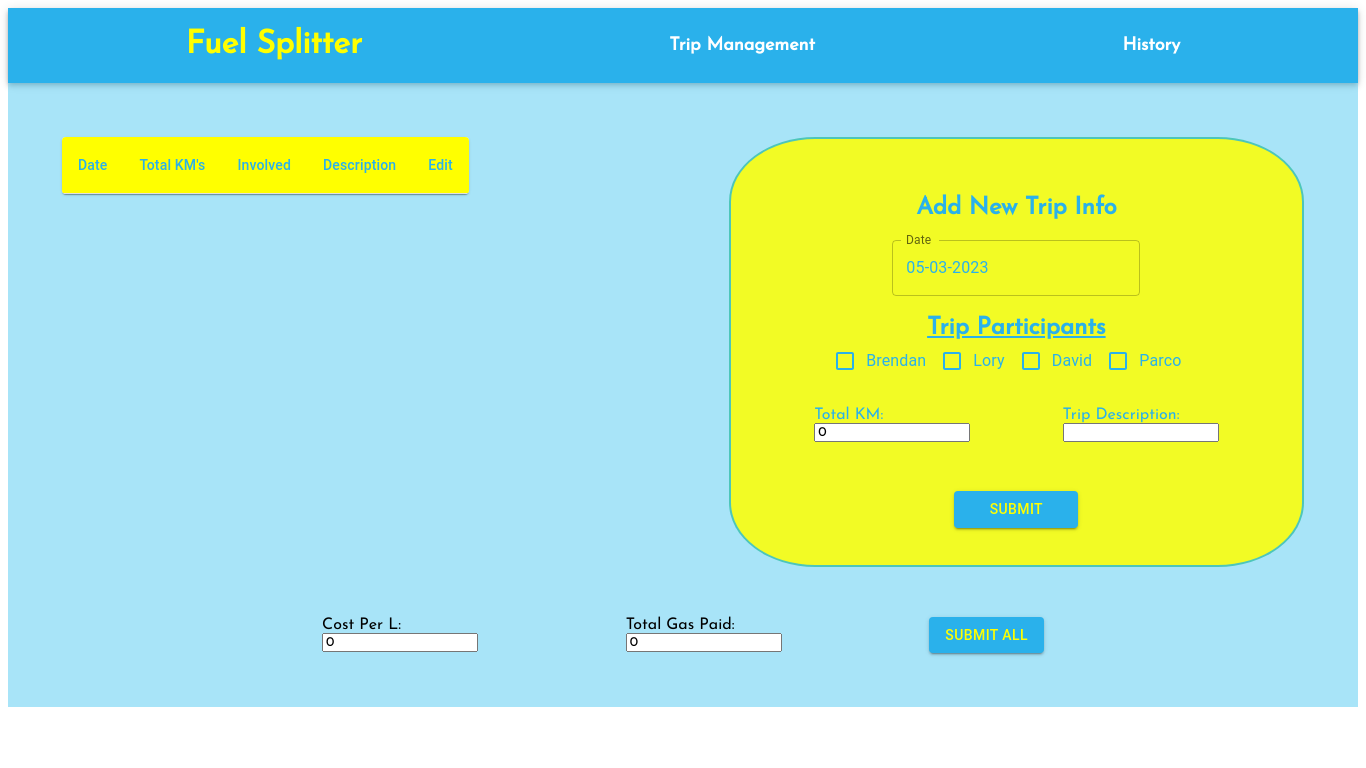
Test: Final Gas Totals › Should only show appropriate errors after being partially fixed
Click the button with test id "submit_all": {"x": 987, "y": 636} [929,617,1044,654]
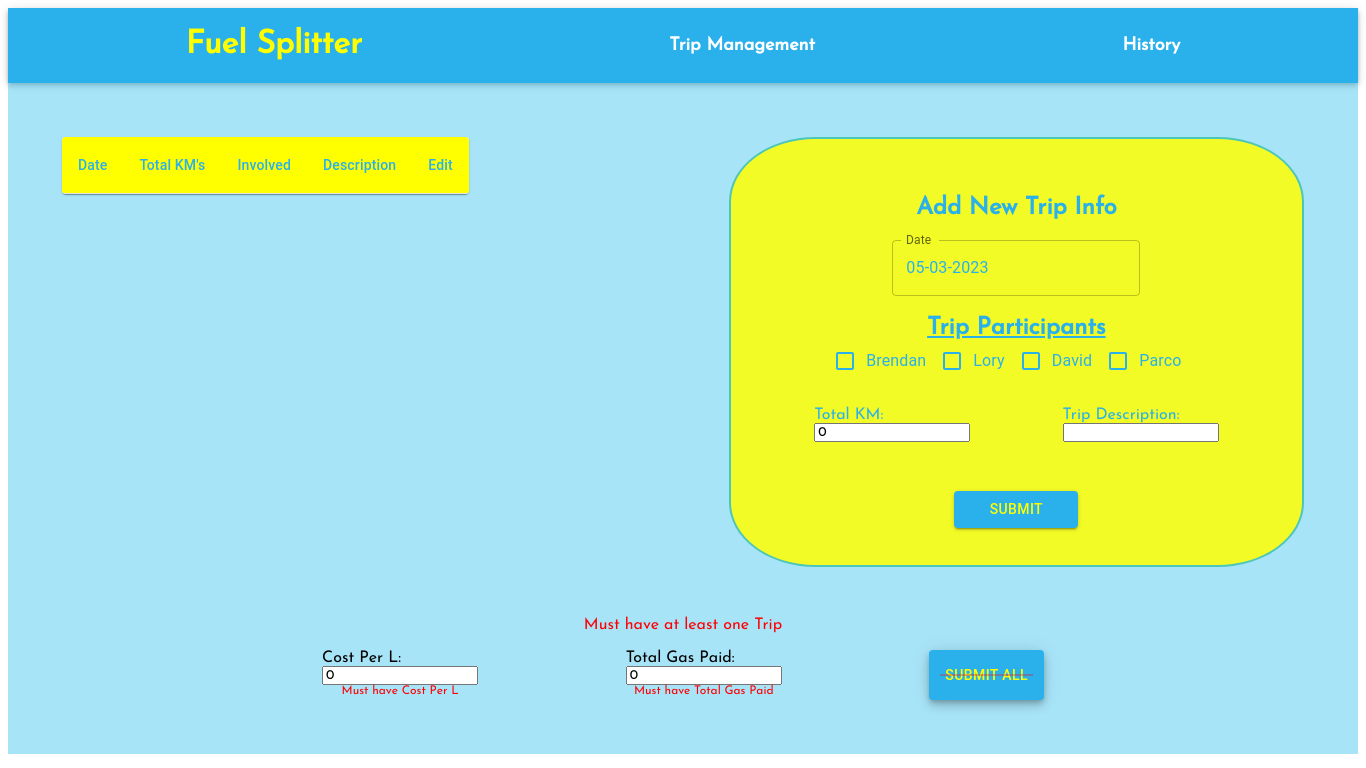
Replace the text in the number field with test id "costPerL" with "1.72": {"x": 400, "y": 676} [322,666,478,685]
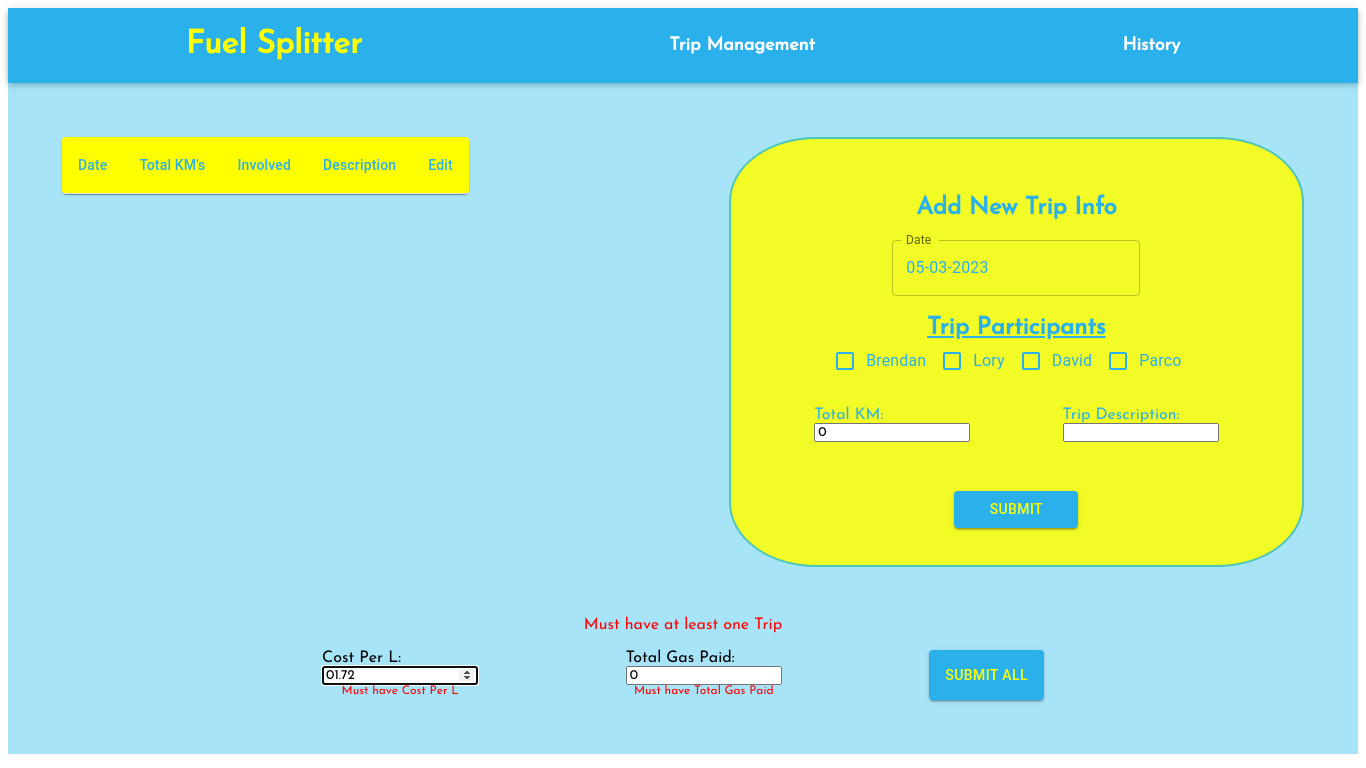
Click the button with test id "submit_all": {"x": 987, "y": 675} [929,650,1044,700]
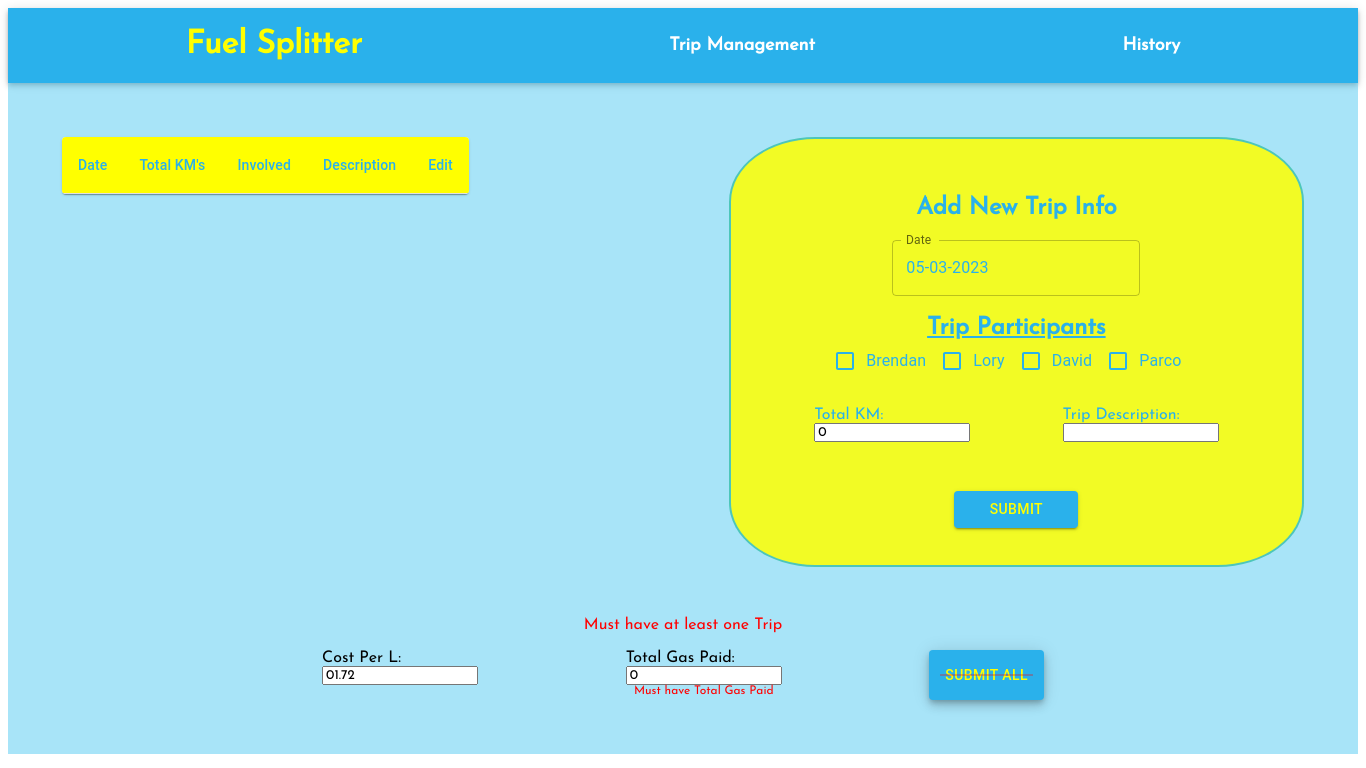
Expected: the text "Must have Total Gas Paid" is shown, [634,685,774,700]
Expected: the text "Must have at least one Trip" is shown, [584,617,782,633]
Expected: the text with test id "costPerL_error" is gone
Clear the number field with test id "costPerL": {"x": 400, "y": 676} [322,666,478,685]
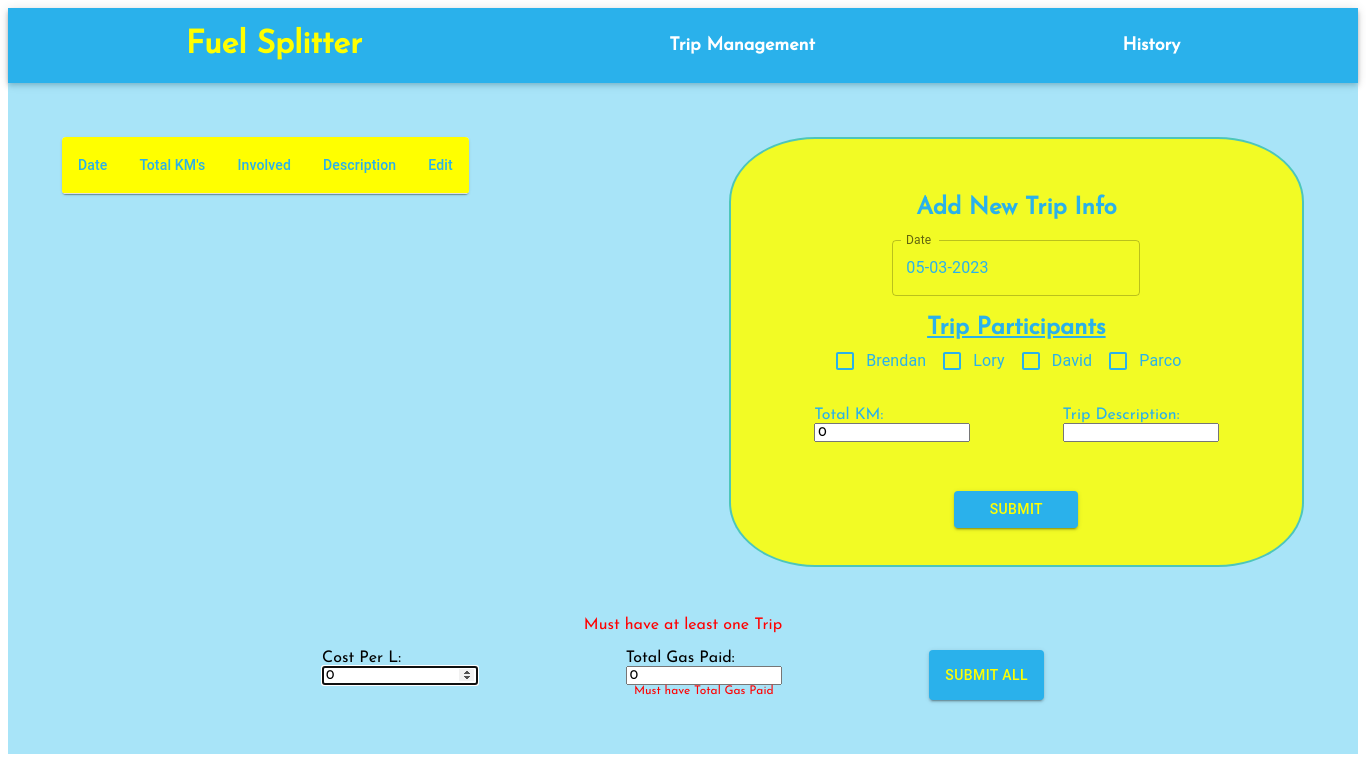
Replace the text in the number field with test id "gasCost" with "72.89 ": {"x": 704, "y": 676} [626,666,782,685]
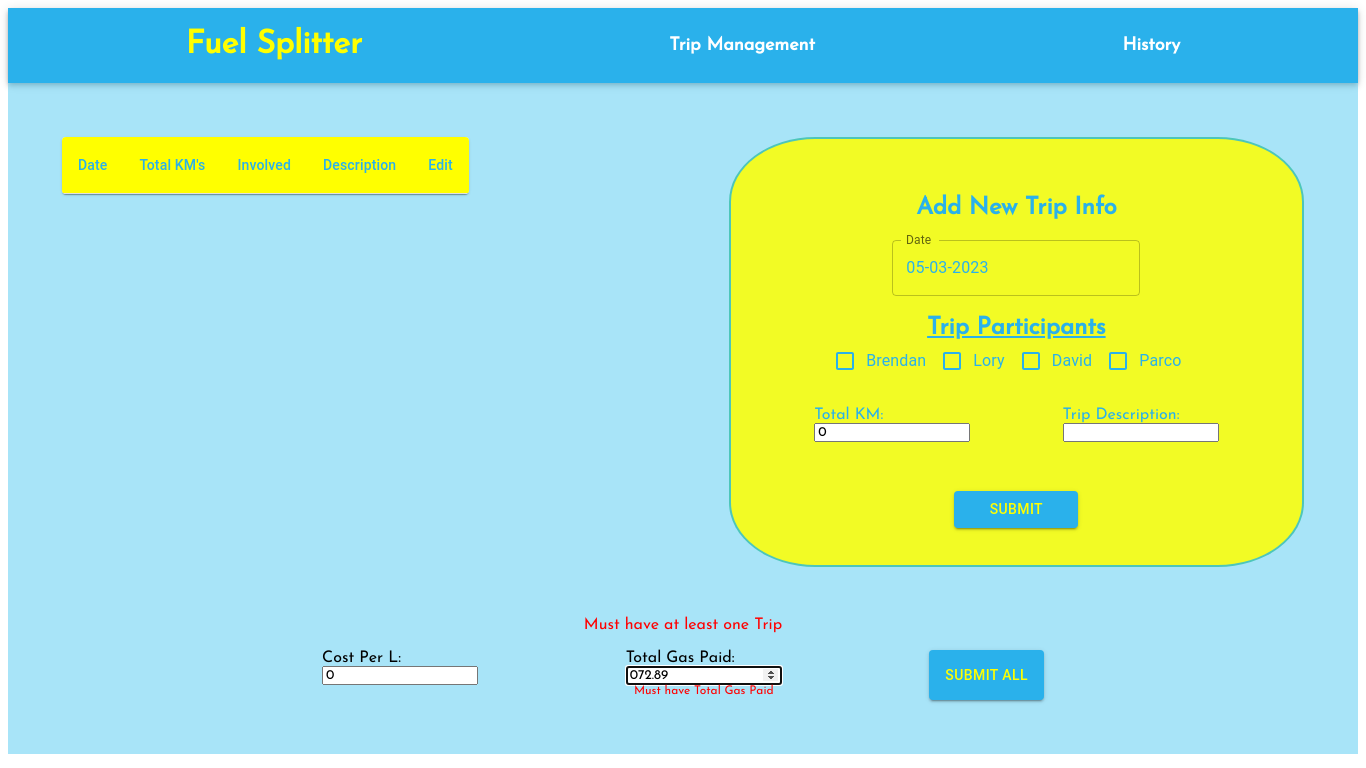
Click the button with test id "submit_all": {"x": 987, "y": 675} [929,650,1044,700]
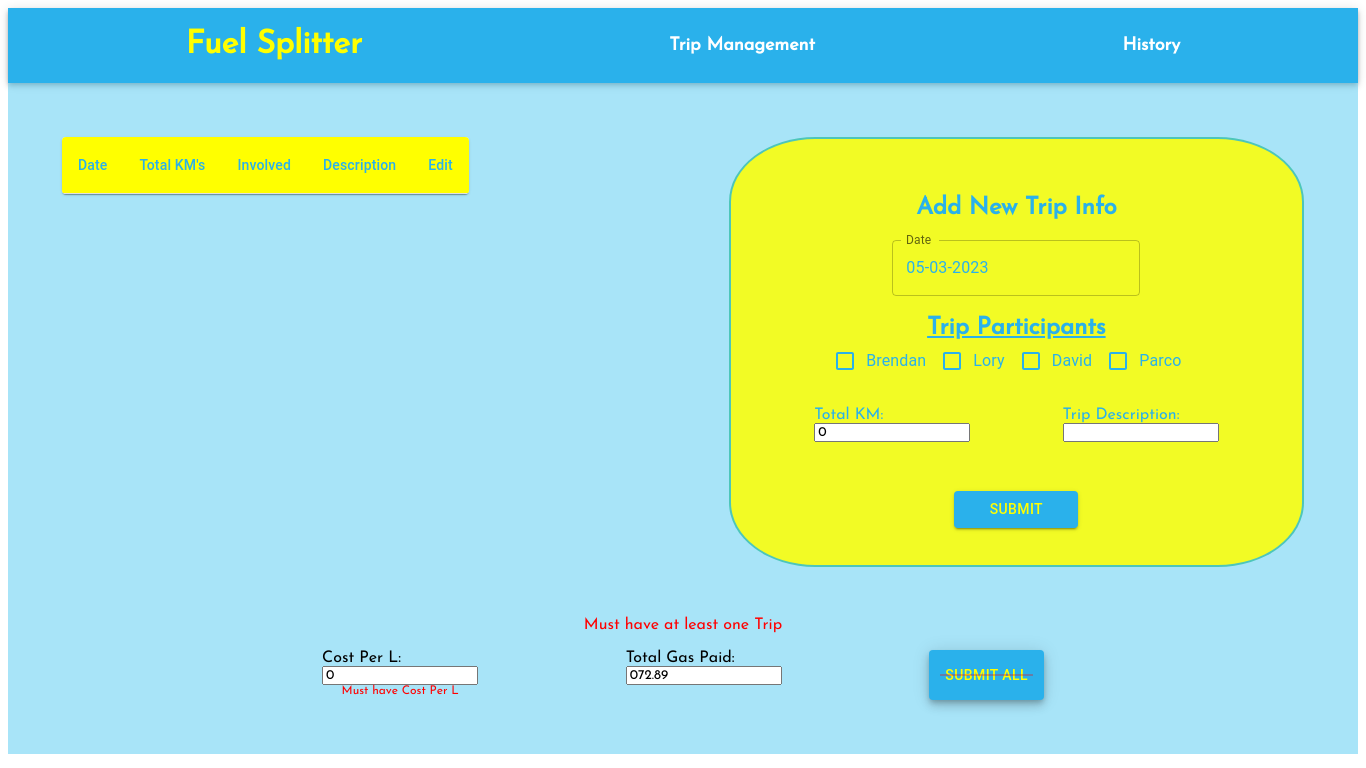
Expected: the text "Must have at least one Trip" is shown, [584,617,782,633]
Expected: the text with test id "gasCost_error" is gone
Expected: the text "Must have Cost Per L" is shown, [342,685,459,700]
